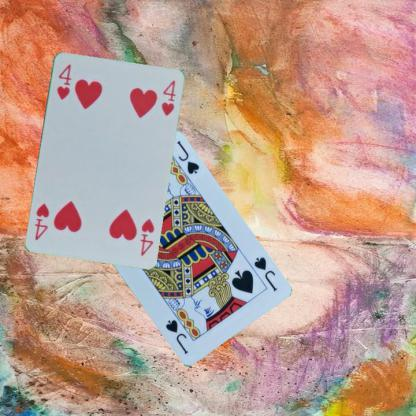4h: (54, 61, 72, 101), (138, 216, 156, 256)
Js: (251, 254, 278, 293)
